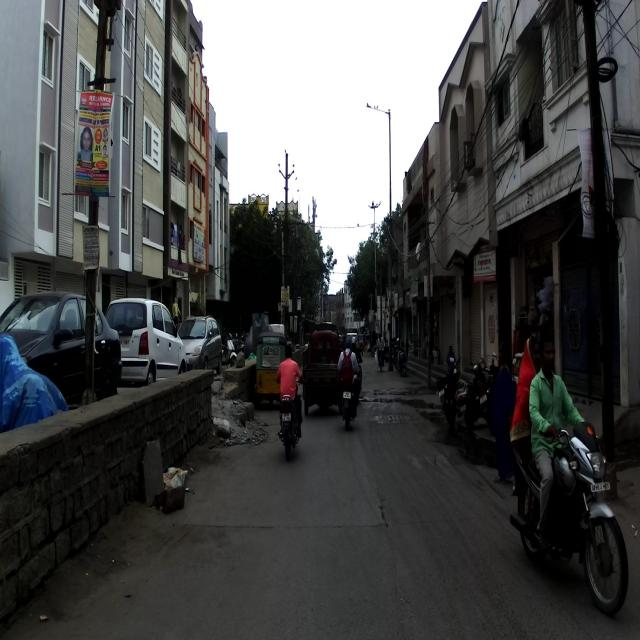car: (0, 288, 121, 430), (96, 296, 188, 393), (175, 314, 223, 371)
motorcycle: (508, 419, 628, 614), (276, 375, 305, 462), (434, 355, 462, 425)
